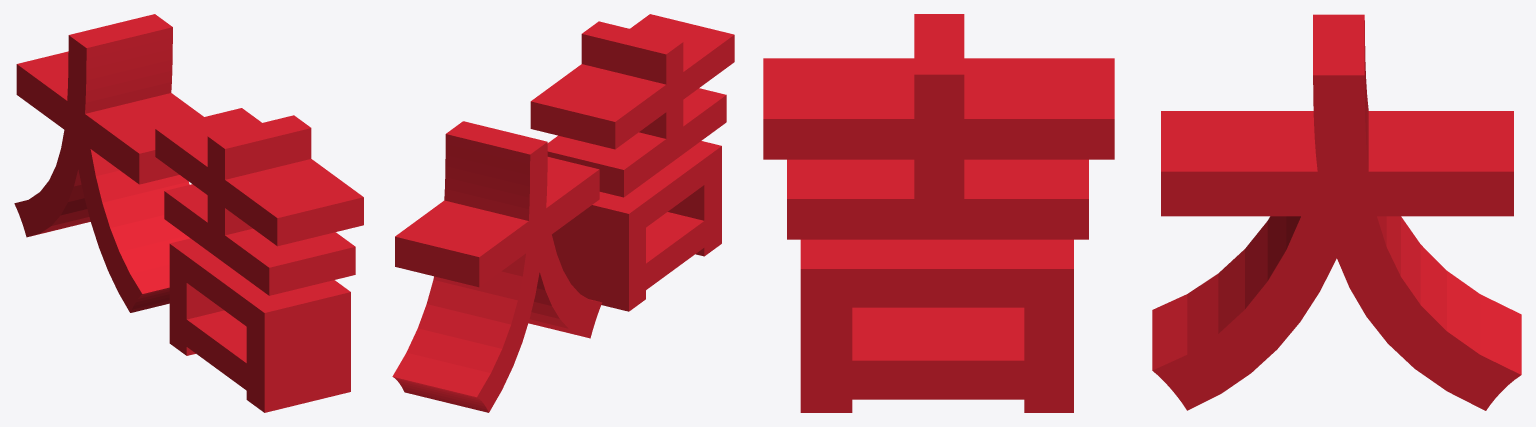
File: tinker.obj
3 views of the same model, side by side, from view 1: azimuth 30°, elevation 25°; view 2: azimuth 150°, elevation 25°; view 3: azimuth 270°, elevation 25° (orthographic). The views are drawn at different scales.
Visible parts, largest first — view 1: obj_0; view 2: obj_0; view 3: obj_0.
Part boxes in pixels (x1,y1,x2,y2): obj_0: [14, 14, 363, 412]; obj_0: [392, 14, 734, 412]; obj_0: [763, 14, 1521, 412].
Size of the model in its own units: 10 by 26 by 52.8.
